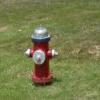Hydrant: (17, 21, 67, 85)
